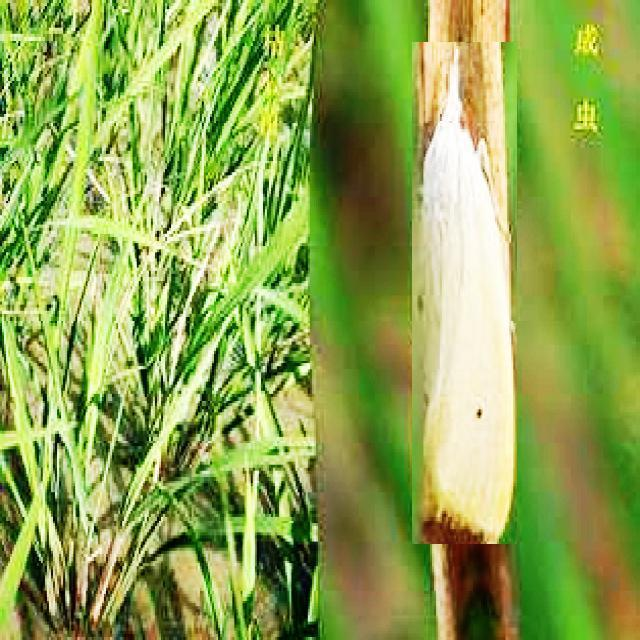stem-borer: (412, 43, 517, 545)
